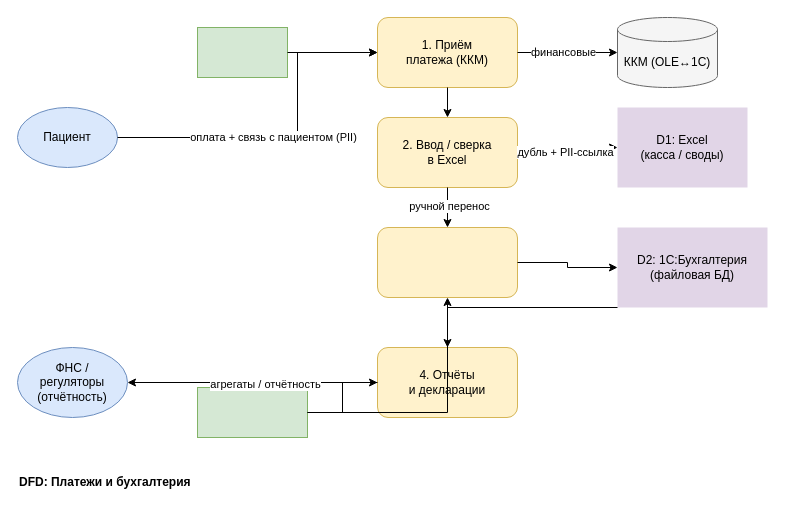
The diagram is 785 pixels wide and 515 high, and some of its shapes have lost their labels. The centre of each missing label's shape, as x and y in pixels:
3. Ввод в 1С:Бухгалтерия: (447,262)
Бухгалтерия: (252,412)
Кассир: (242,52)
